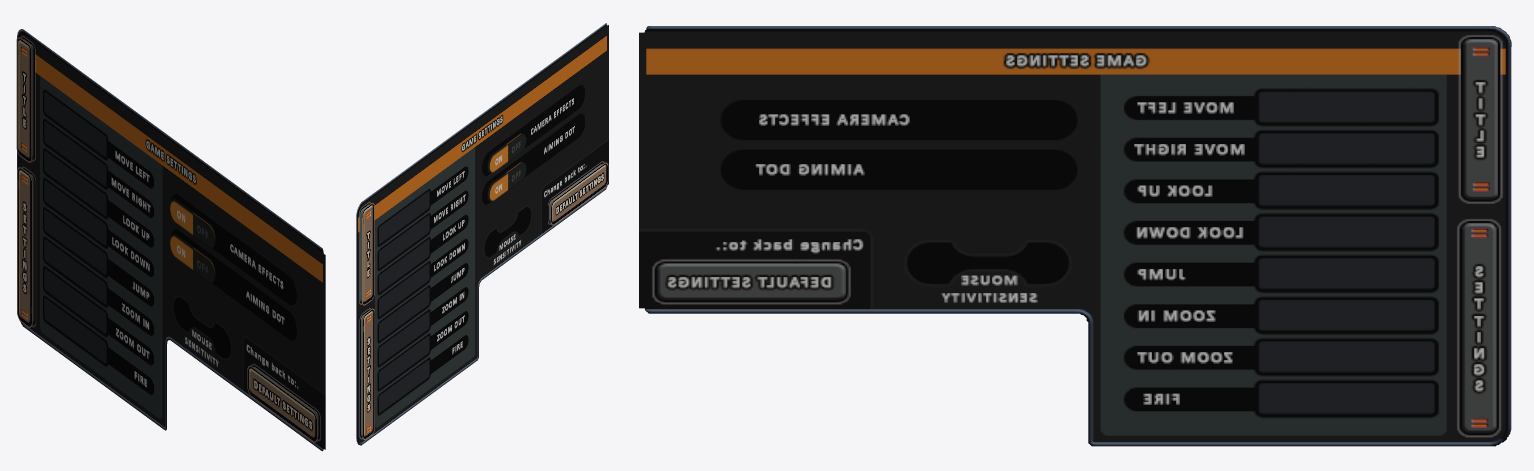
The model's file is cp_settings.FBX.
3 renders of one model, left to right at view 1: azimuth 30°, elevation 25°; view 2: azimuth 150°, elevation 25°; view 3: azimuth 270°, elevation 25°, orthographic. The views are drawn at different scales.
Visible parts, largest first — view 1: GameSettingsPlane, buttonSettingsLit, buttonDefaultSettingsLit, ButtonOn (×2), buttonTitleLit; view 2: GameSettingsPlane, buttonSettingsLit, buttonDefaultSettingsLit, ButtonOn (×2), buttonTitleLit; view 3: GameSettingsPlane.
Boxes of the visible parts, <box> form: GameSettingsPlane: <box>17,29,325,451</box>; buttonSettingsLit: <box>17,167,32,327</box>; buttonDefaultSettingsLit: <box>247,365,317,442</box>; ButtonOn (×2): <box>170,200,215,283</box>; buttonTitleLit: <box>16,37,32,162</box>; GameSettingsPlane: <box>356,23,608,445</box>; buttonSettingsLit: <box>362,308,374,439</box>; buttonDefaultSettingsLit: <box>550,162,608,225</box>; ButtonOn (×2): <box>489,133,526,201</box>; buttonTitleLit: <box>362,203,374,305</box>; GameSettingsPlane: <box>639,26,1511,446</box>.
Bounding box in the file's own units: 2.72 × 296 × 164.
1 material, 1 textured.
